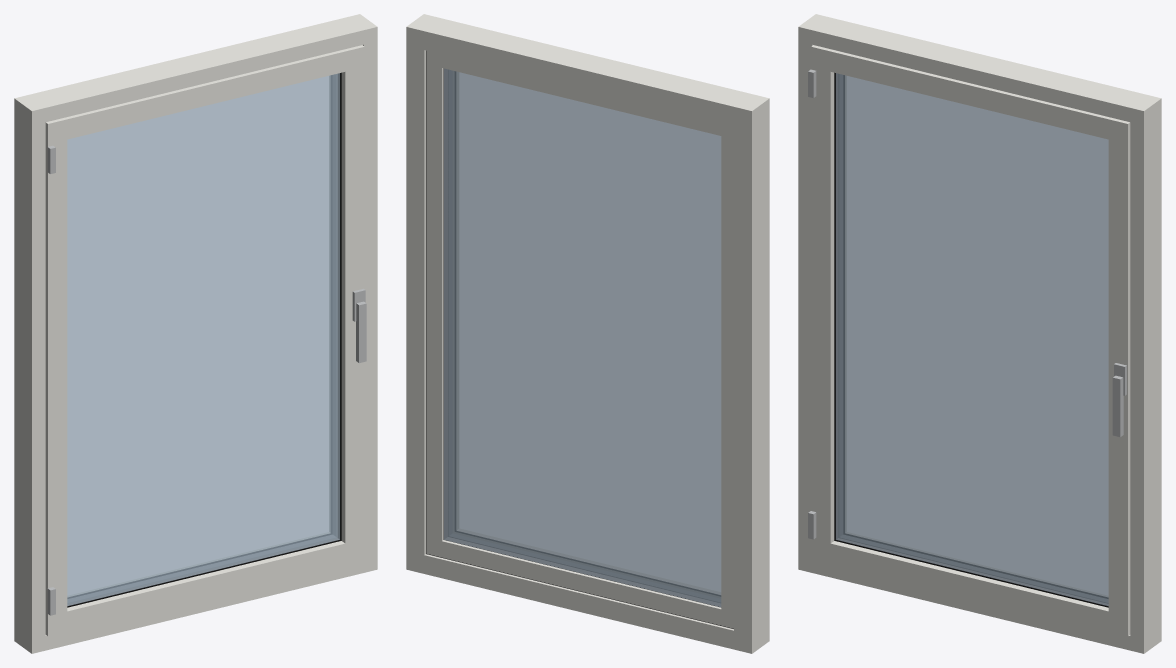
The model's file is series-88.glb.
The picture shows the model from 3 angles, left to right: view 1: azimuth 30°, elevation 25°; view 2: azimuth 150°, elevation 25°; view 3: azimuth 330°, elevation 25°; orthographic projection.
Visible parts, largest first — view 1: Series 88; view 2: Series 88; view 3: Series 88.
Boxes of the visible parts, x1,y1,x2,y2 form: Series 88: (14,14,377,653); Series 88: (406,14,769,653); Series 88: (798,14,1161,653).
Size of the model in its own units: 1 by 1.5 by 0.12.
